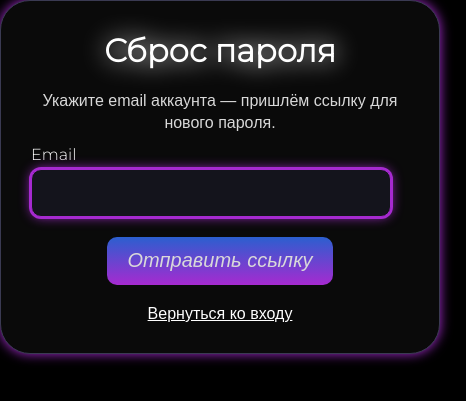
Test: ForgotPasswordForm › checks the email, sends it in the UI language and shows the same answer
Click the button "Отправить ссылку" at (220, 261), box x1=107 y1=237 x2=333 y2=285
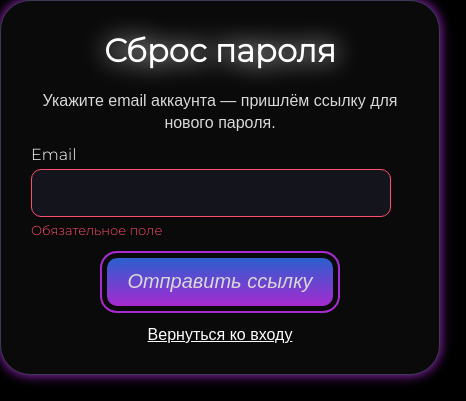
Now the text "Обязательное поле" is shown, box x1=31 y1=222 x2=162 y2=238
Type " NEO@Matrix.io " into the field labelled "Email" at (211, 193), box x1=31 y1=169 x2=391 y2=217
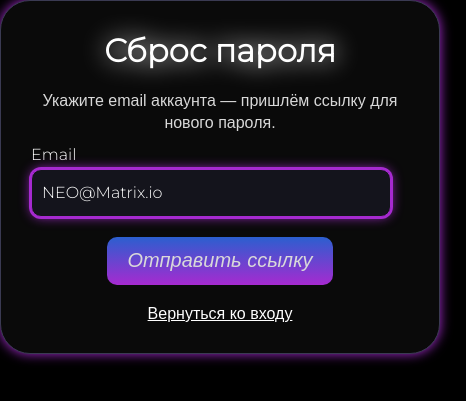
Click the button "Отправить ссылку" at (220, 261), box x1=107 y1=237 x2=333 y2=285
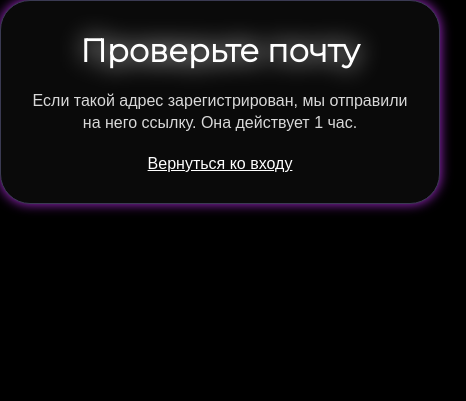
Now the heading "Проверьте почту" is shown, box x1=80 y1=31 x2=360 y2=70
